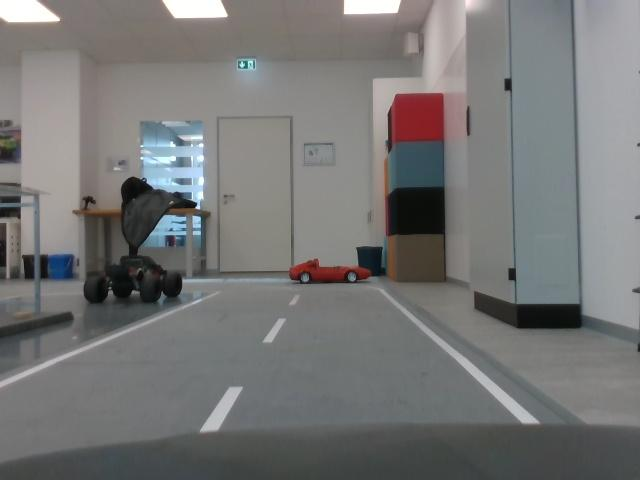car: (78, 256, 189, 308), (280, 260, 376, 289)
